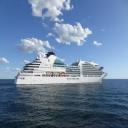cruises: (15, 52, 110, 87)
